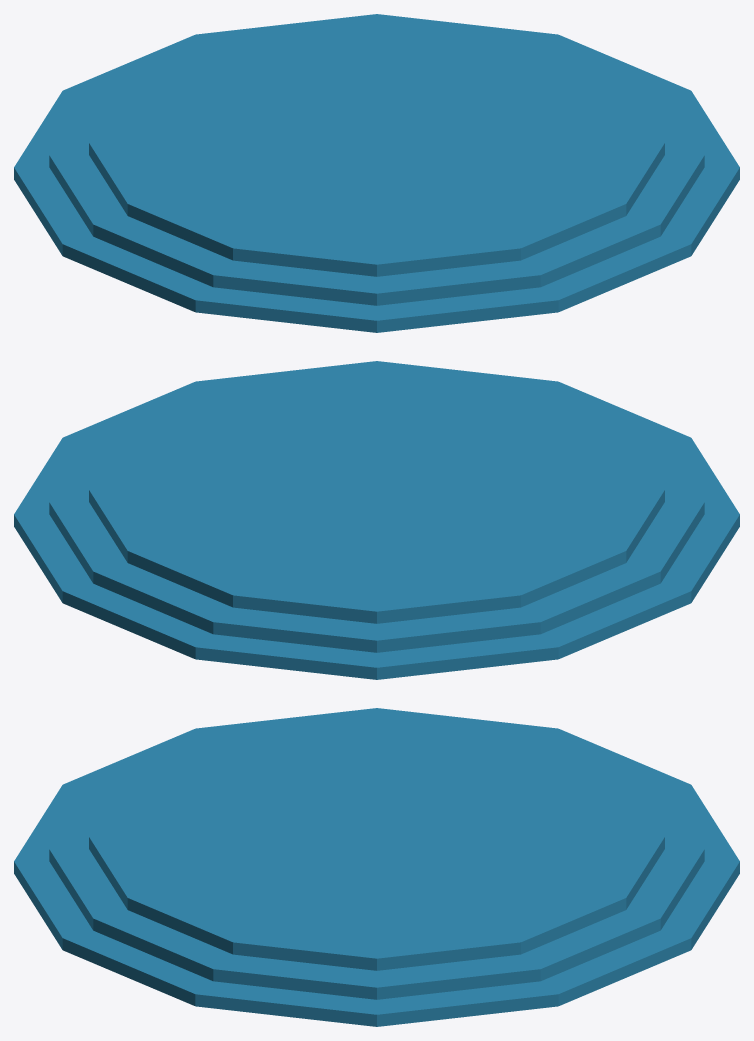
Rendered from podium.fbx.
3 views of the same model, one above another, from view 1: azimuth 30°, elevation 25°; view 2: azimuth 150°, elevation 25°; view 3: azimuth 270°, elevation 25° (orthographic).
Parts seen in each view (by area): view 1: podium; view 2: podium; view 3: podium.
Boxes of the visible parts, x1,y1,x2,y2 form: podium: (14, 14, 739, 332); podium: (14, 361, 739, 679); podium: (14, 708, 739, 1026).
Bounding box in the file's own units: 1081 × 60 × 1081.
